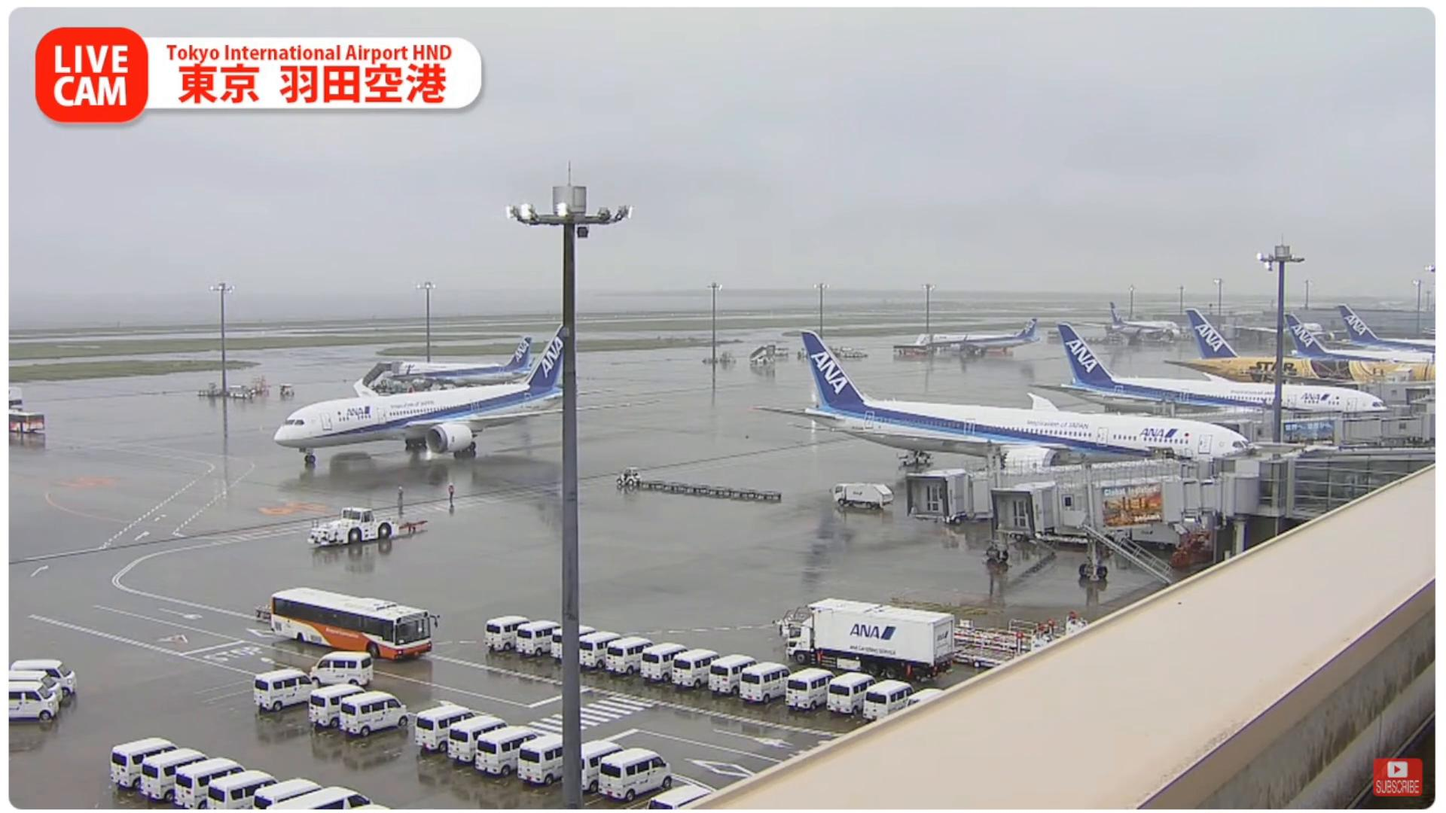APS: (307, 505, 400, 546)
Aerobridge: (991, 474, 1261, 588), (906, 439, 1081, 565), (1091, 455, 1211, 479)
Airplane: (275, 320, 660, 464)
Baggage truck: (833, 483, 895, 510)
Catering: (786, 597, 955, 680)
Dolly: (638, 478, 782, 502)
JCPL: (953, 616, 1091, 656), (954, 625, 1046, 670)
Tractor: (617, 467, 642, 488)
Window: (1294, 452, 1436, 515)
